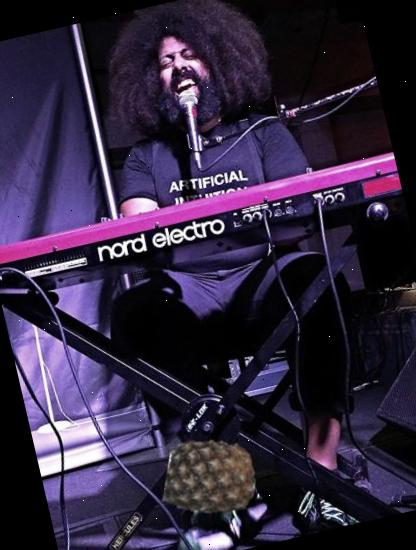Pineapple: (158, 422, 266, 530)
